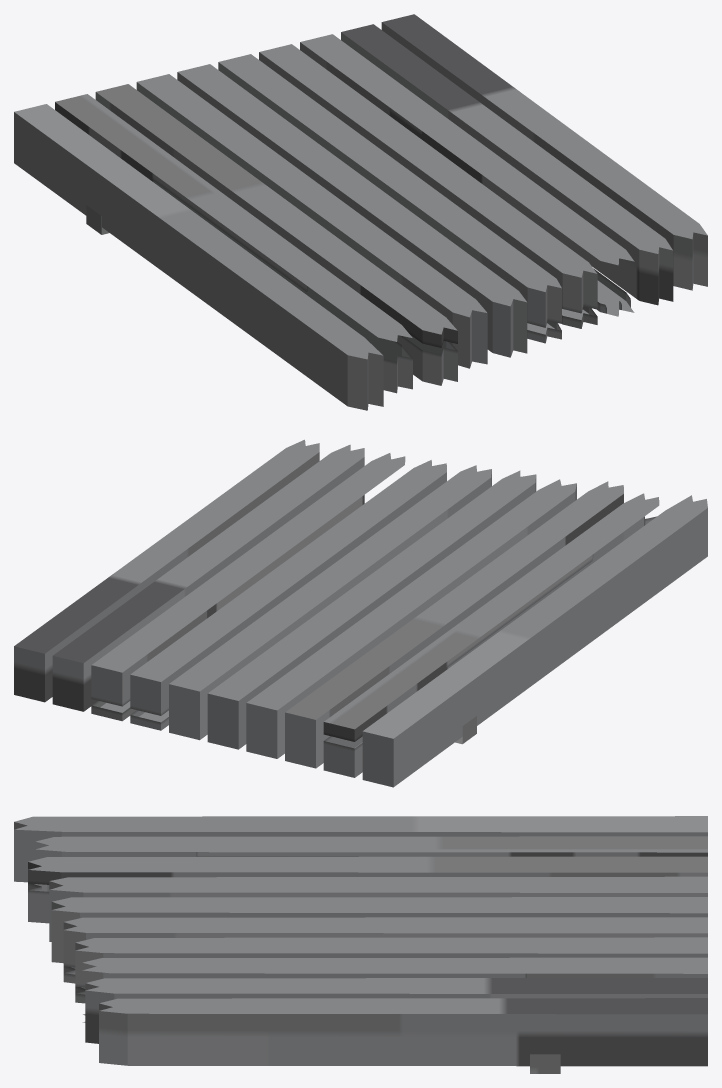
The picture shows the model from 3 angles, top to bottom: view 1: azimuth 30°, elevation 25°; view 2: azimuth 150°, elevation 25°; view 3: azimuth 270°, elevation 25°; orthographic projection. The views are drawn at different scales.
Bounding box in the file's own units: 0.9002 × 0.1264 × 1.33.
